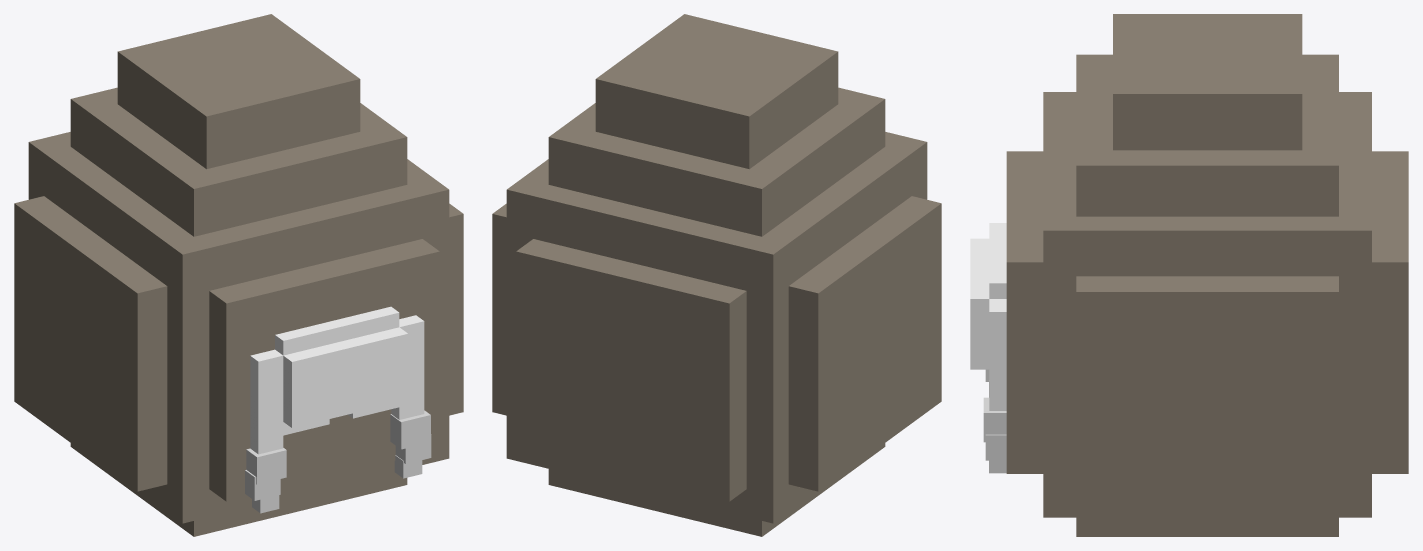
Rendered from 34.Walrus.fbx.
The picture shows the model from 3 angles, left to right: view 1: azimuth 30°, elevation 25°; view 2: azimuth 150°, elevation 25°; view 3: azimuth 270°, elevation 25°; orthographic projection. The views are drawn at different scales.
Visible parts, largest first — view 1: Walrus; view 2: Walrus; view 3: Walrus.
Part boxes in pixels (left/top/right/bottom): Walrus: left=14, top=14, right=463, bottom=536; Walrus: left=492, top=14, right=941, bottom=536; Walrus: left=970, top=14, right=1408, bottom=536.
Size of the model in its own units: 2.89 by 3.39 by 3.15.
